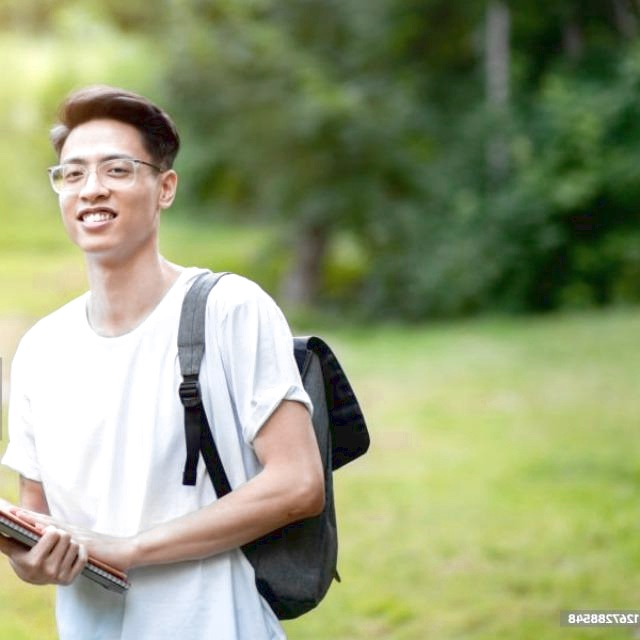Sin_Casco_Mascarrilla: (40, 85, 180, 258)
Sin_Chaleco: (15, 265, 275, 636)
